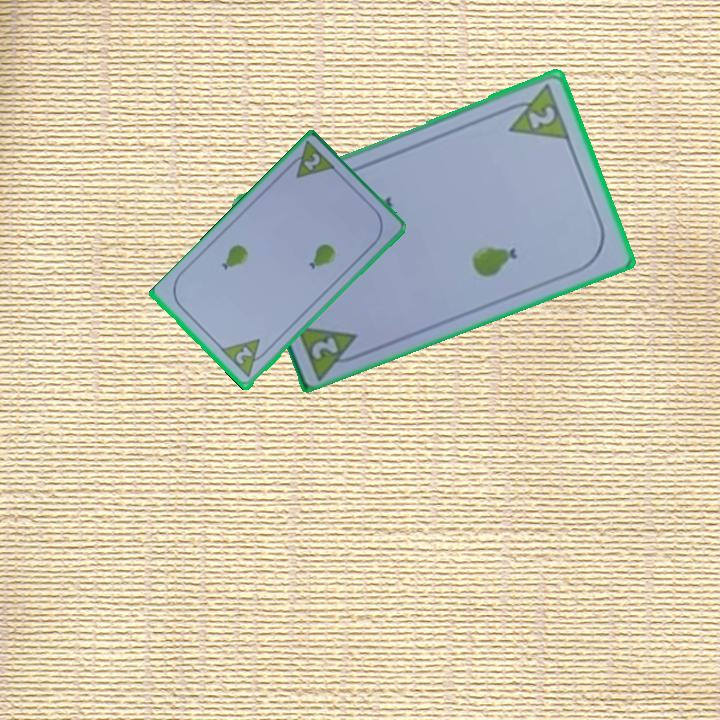2p: (499, 79, 574, 142), (282, 138, 339, 182), (308, 333, 342, 362), (232, 343, 256, 368)
